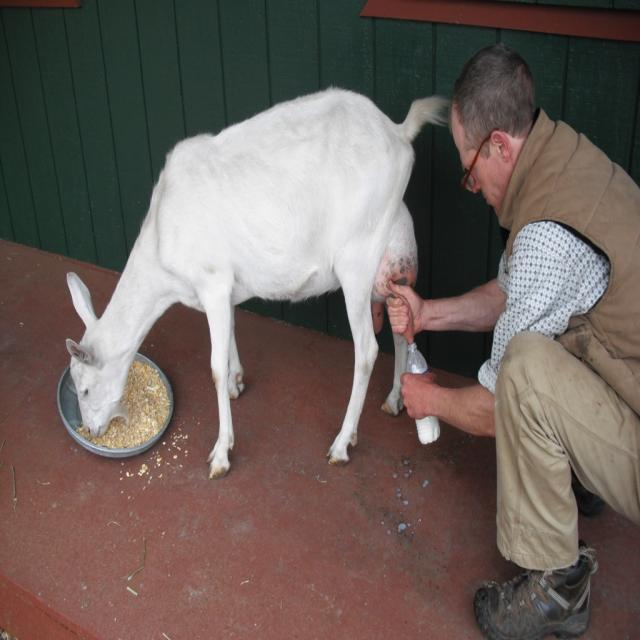Goat: (64, 83, 450, 479)
